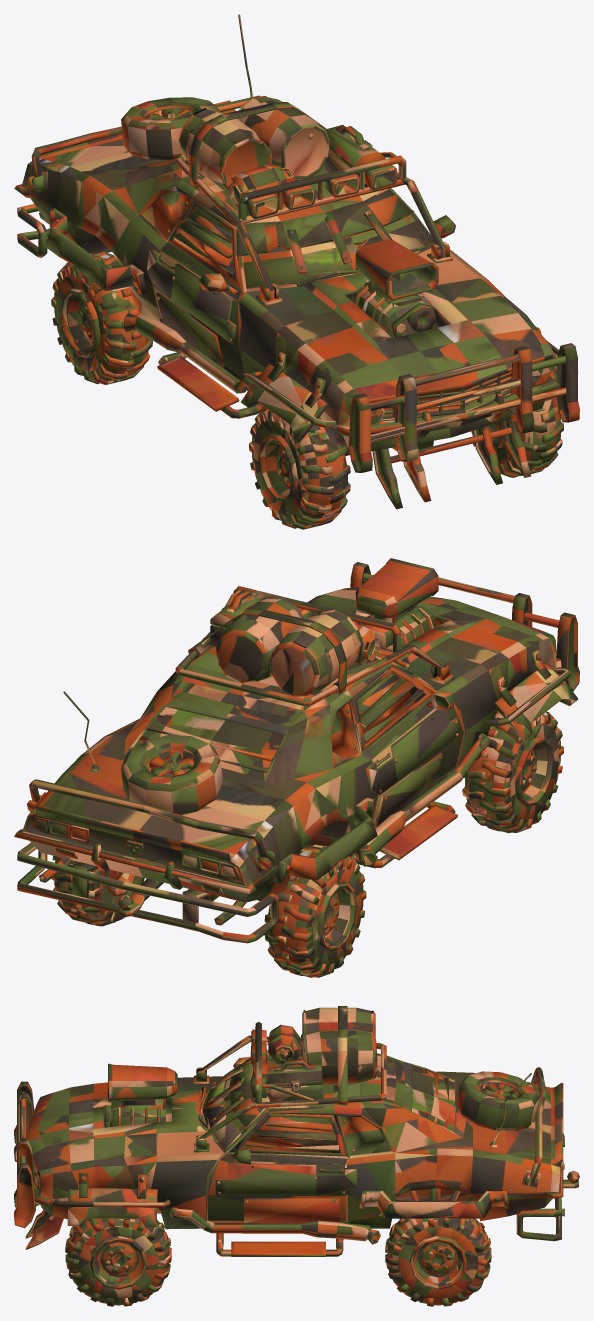
The model's file is Muscle_new.fbx.
3 renders of one model, top to bottom at view 1: azimuth 30°, elevation 25°; view 2: azimuth 150°, elevation 25°; view 3: azimuth 270°, elevation 25°, orthographic. The views are drawn at different scales.
Parts seen in each view (by area): view 1: car, wheel_1, wheel_4, wheel_2; view 2: car, wheel_4, wheel_1, wheel_3; view 3: car, wheel_3, wheel_2.
Boxes of the visible parts, bbox=[...] form: car: bbox=[14, 14, 579, 509]; wheel_1: bbox=[249, 407, 350, 529]; wheel_4: bbox=[51, 251, 152, 384]; wheel_2: bbox=[471, 389, 563, 477]; car: bbox=[14, 558, 579, 943]; wheel_4: bbox=[264, 844, 366, 977]; wheel_1: bbox=[462, 710, 563, 833]; wheel_3: bbox=[51, 855, 144, 926]; car: bbox=[14, 1006, 579, 1256]; wheel_3: bbox=[385, 1218, 491, 1306]; wheel_2: bbox=[65, 1218, 171, 1306].
Size of the model in its own units: 94.29 by 91.28 by 200.
